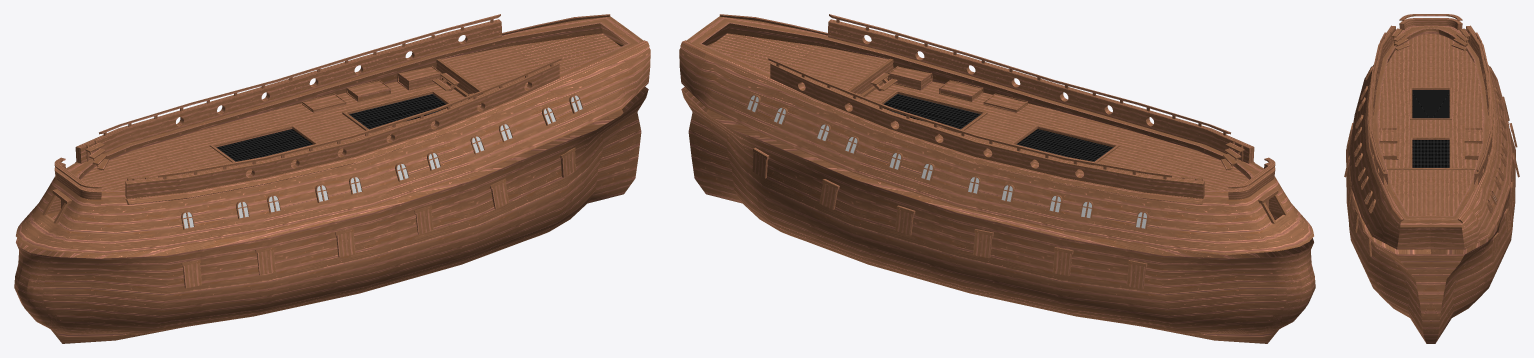
The model's file is SM_Ship_Part_04.fbx.
3 views of the same model, side by side, from view 1: azimuth 30°, elevation 25°; view 2: azimuth 150°, elevation 25°; view 3: azimuth 270°, elevation 25° (orthographic). The views are drawn at different scales.
Visible parts, largest first — view 1: SM_Ship_Part_04_LOD0; view 2: SM_Ship_Part_04_LOD0; view 3: SM_Ship_Part_04_LOD0.
Part boxes in pixels (x1,y1,x2,y2): SM_Ship_Part_04_LOD0: (14, 14, 650, 343); SM_Ship_Part_04_LOD0: (679, 14, 1315, 343); SM_Ship_Part_04_LOD0: (1344, 14, 1519, 343).
Bounding box in the file's own units: 3748 × 1186 × 1220.
4 materials, 3 textured.
